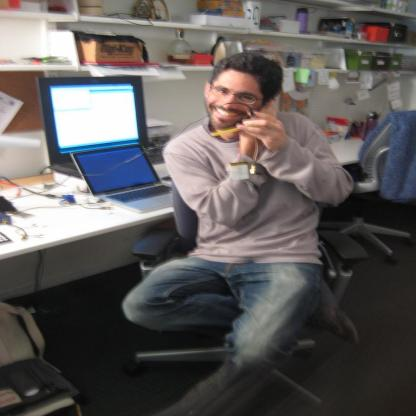board: (68, 142, 174, 215), (163, 29, 193, 63)
